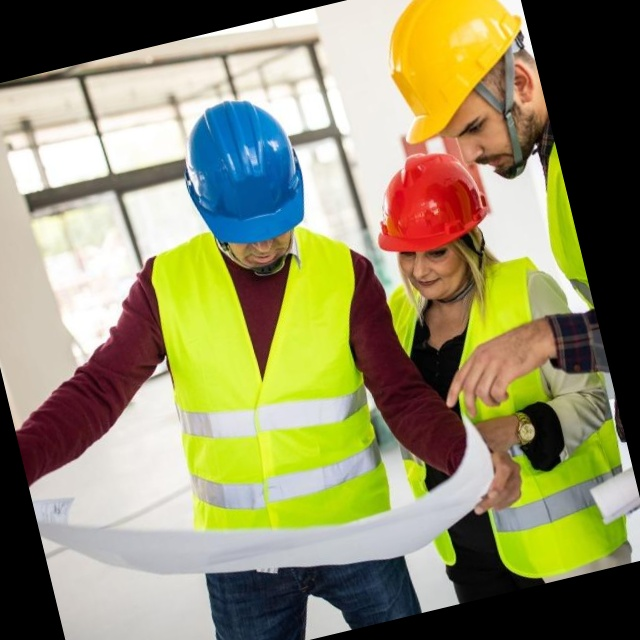Con_Casco: (165, 89, 323, 283)
Con_Chaleco: (129, 217, 412, 561)
